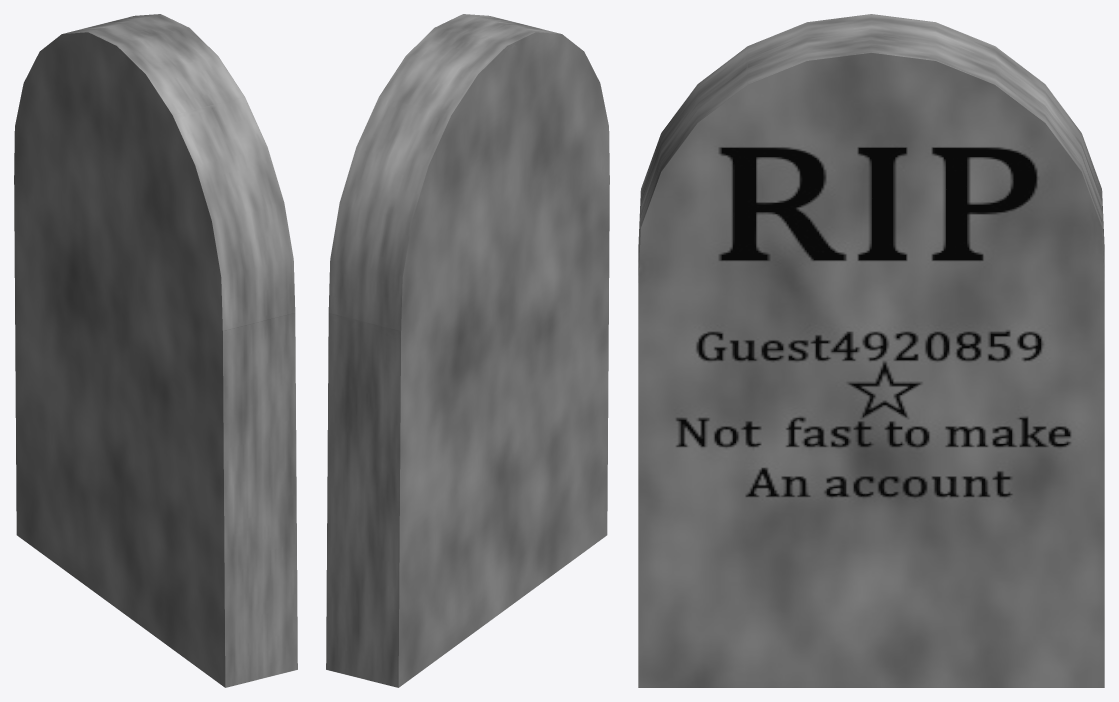
File: Gravestone-guest.dae
3 views of the same model, side by side, from view 1: azimuth 30°, elevation 25°; view 2: azimuth 150°, elevation 25°; view 3: azimuth 270°, elevation 25° (orthographic). The views are drawn at different scales.
Visible parts, largest first — view 1: SketchUp; view 2: SketchUp; view 3: SketchUp.
Boxes of the visible parts, <box> form: SketchUp: <box>14,14,297,687</box>; SketchUp: <box>326,14,609,687</box>; SketchUp: <box>638,14,1104,687</box>.
Size of the model in its own units: 0.0341 by 0.161 by 0.2413.
Materials: 1 (1 with a texture image).
